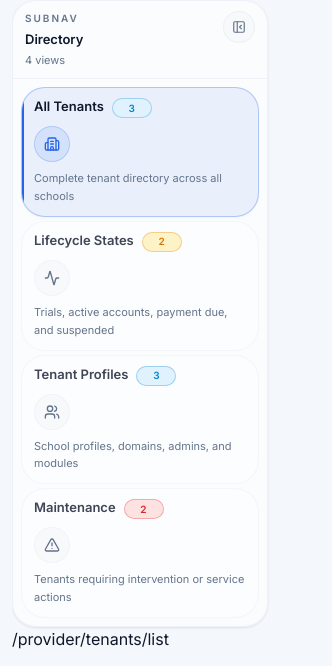
Test case: LeftSubNav provider refresh › renders tenant counts and supports collapsed navigation without breaking routing
Check: the text with test id "provider-subnav-metric-tenants_list" reads "3", box [128,102,135,114]
Check: the text with test id "provider-subnav-metric-tenants_status" reads "2", box [158,235,165,247]
Click the button named "Collapse provider sub navigation".
click(239, 27)  # box [223,11,255,43]
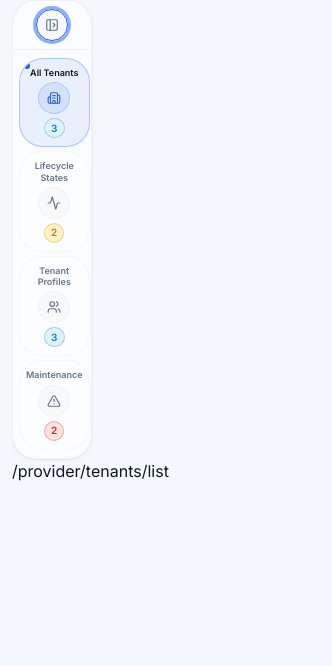
Check: the button named "Expand provider sub navigation" is shown, box [36,9,68,41]
Click the button "Lifecycle States 2".
click(54, 202)  # box [19,151,90,252]
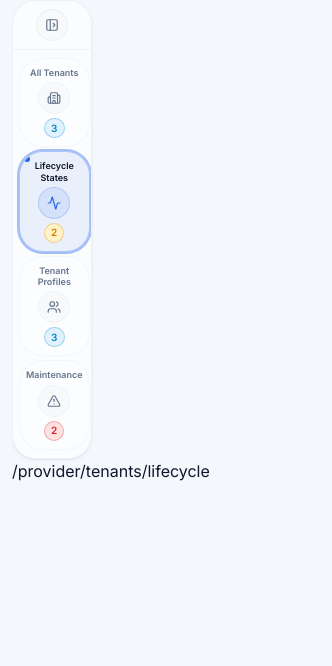
Check: the text with test id "location" reads "/provider/tenants/lifecycle", box [12,460,210,480]
